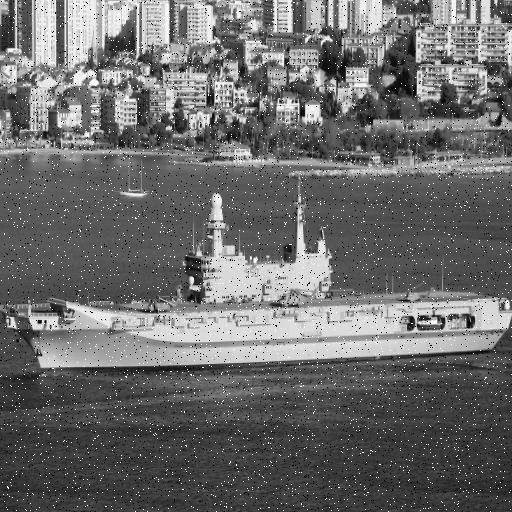Portanaves: (1, 175, 512, 382)
